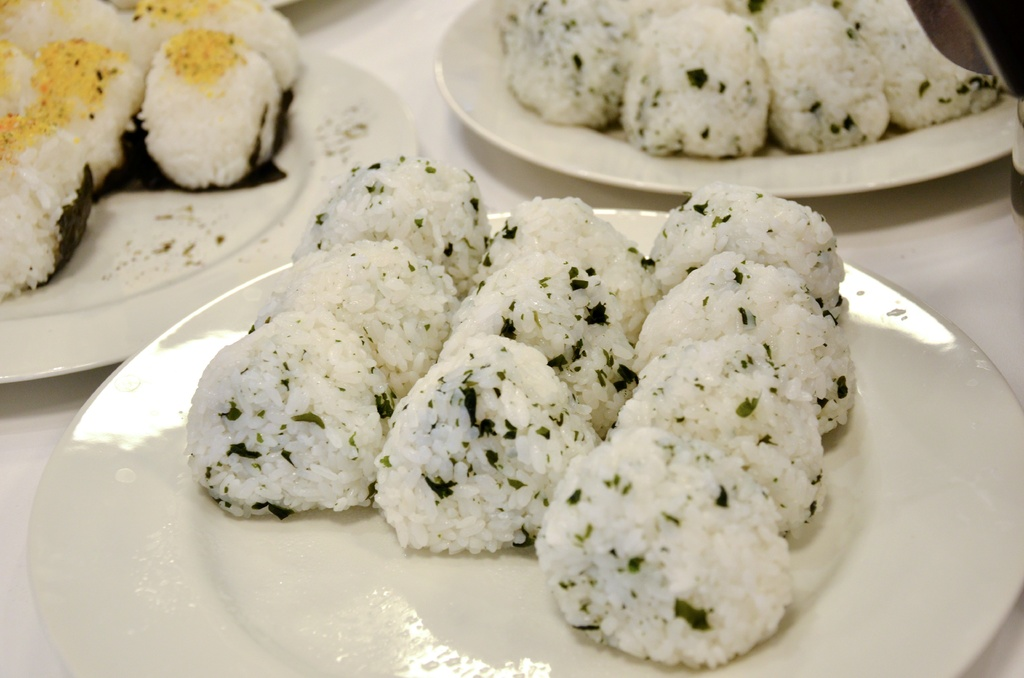sushi: (184, 152, 849, 674), (1, 0, 303, 300), (506, 0, 1002, 156), (371, 348, 589, 549)
